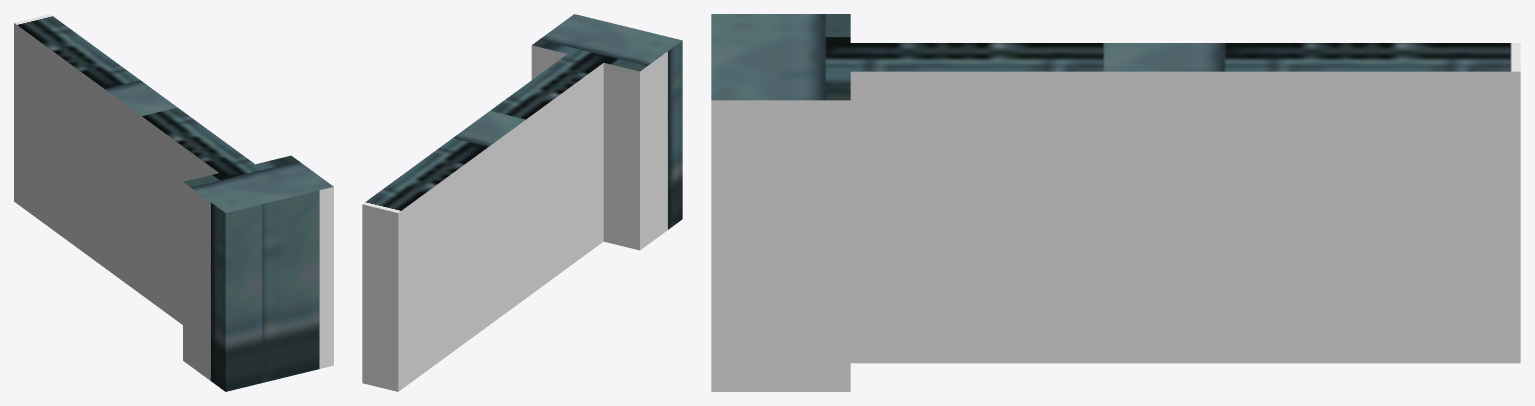
File: HiddenWall.obj
The picture shows the model from 3 angles, left to right: view 1: azimuth 30°, elevation 25°; view 2: azimuth 150°, elevation 25°; view 3: azimuth 270°, elevation 25°; orthographic projection. The views are drawn at different scales.
Visible parts, largest first — view 1: Left_Wall_Two; view 2: Left_Wall_Two; view 3: Left_Wall_Two.
Part boxes in pixels (x1,y1,x2,y2): Left_Wall_Two: (14, 14, 333, 391); Left_Wall_Two: (362, 14, 682, 391); Left_Wall_Two: (711, 14, 1520, 391).
Size of the model in its own units: 24.21 by 38.22 by 96.07.
